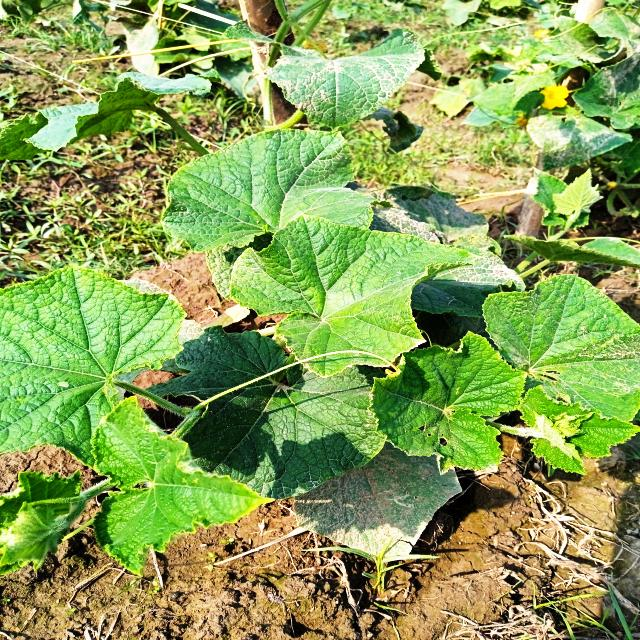Fresh-Leaf: (229, 212, 479, 378), (85, 397, 277, 581)
